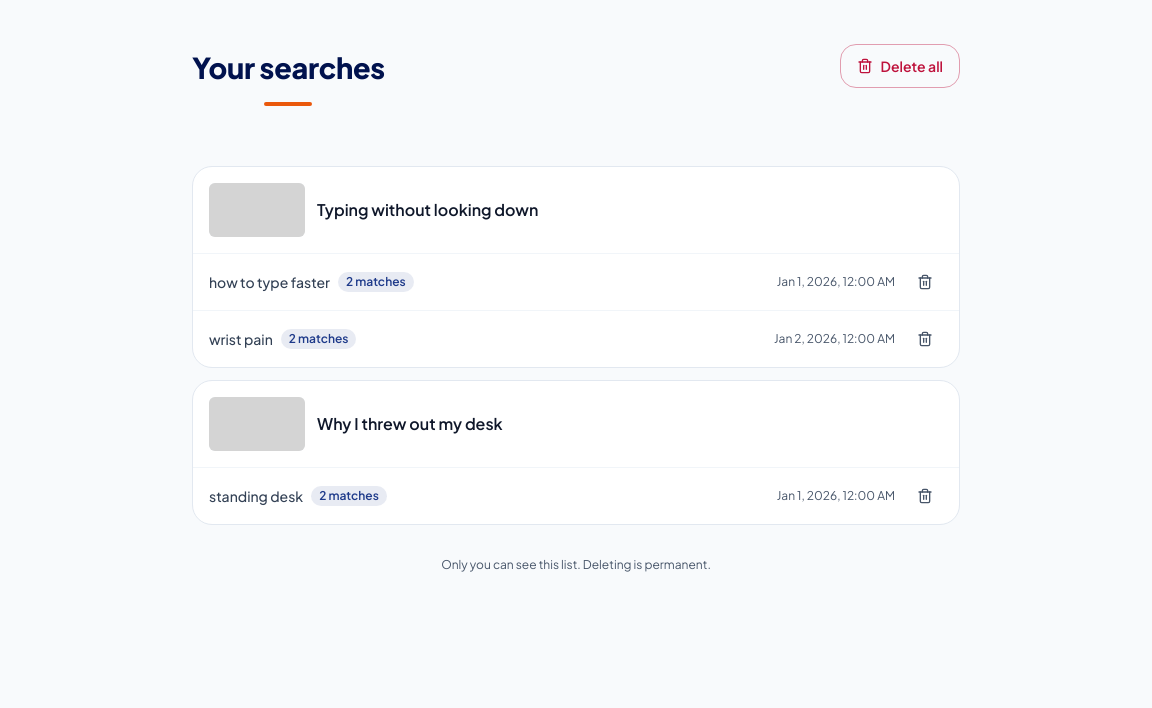
Test case: history grouping › still deletes a single search without disturbing its siblings
This screenshot has width=1152, height=708.
Expected: the link "standing desk" is shown, top-left (209, 486), bottom-right (303, 506)
Click the button named "delete the search for wrist pain" at (925, 339), box top-left (907, 321), bottom-right (943, 357)
(page scrolled)
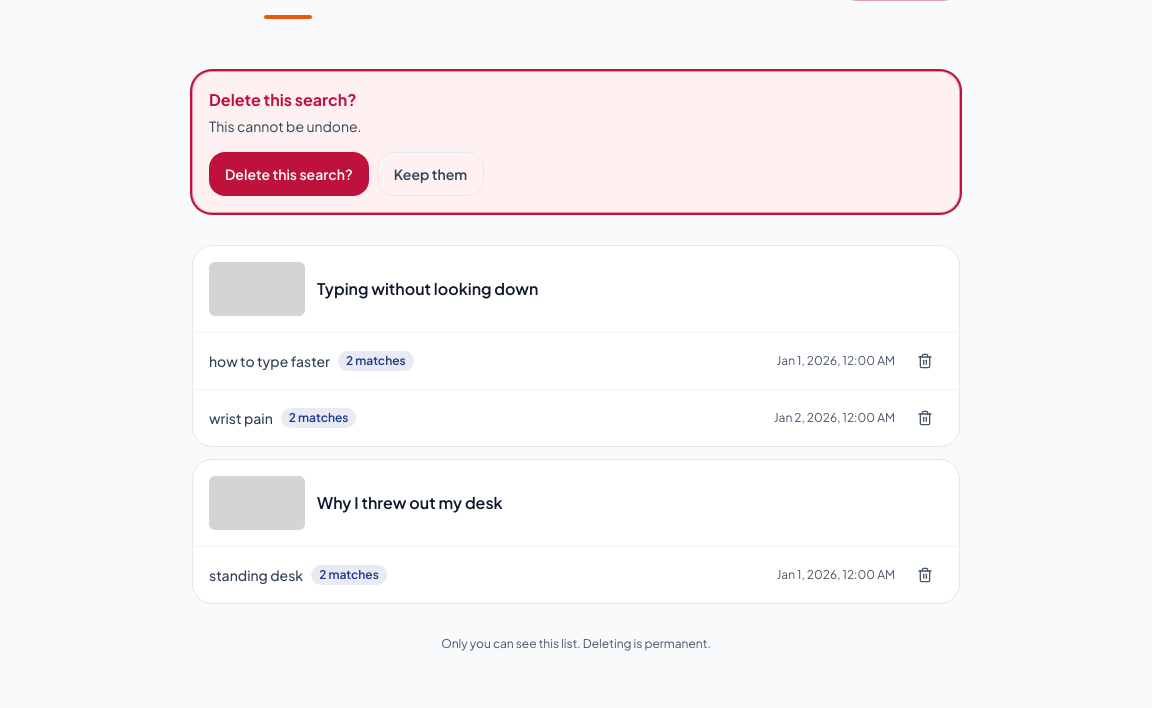
Click the button "Delete this search?" at (289, 174), box top-left (209, 152), bottom-right (369, 196)
(page scrolled)
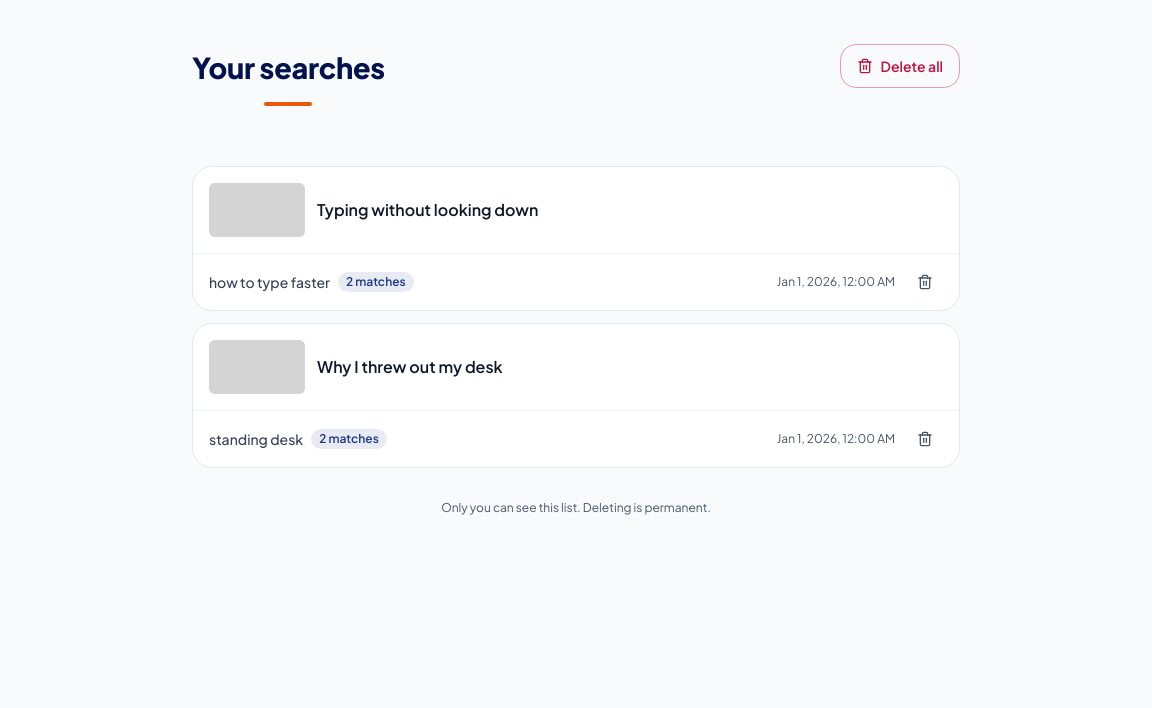
Expected: the link "how to type faster" is shown, top-left (209, 272), bottom-right (330, 292)
Expected: the link "wrist pain" is gone
